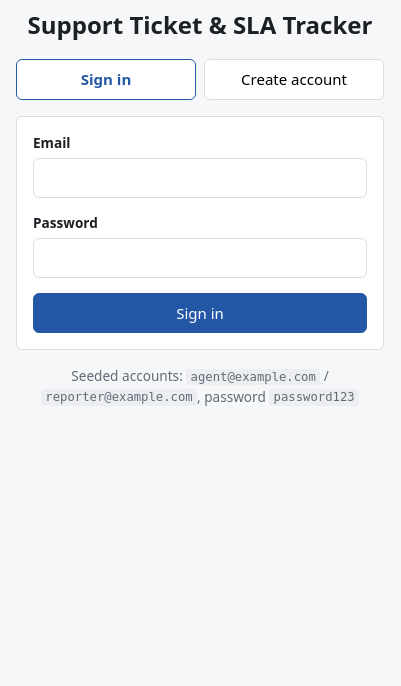
create account › hides it again if the role is switched back
Click the tab "Create account" at point(294, 79), box 204,59 -> 384,100
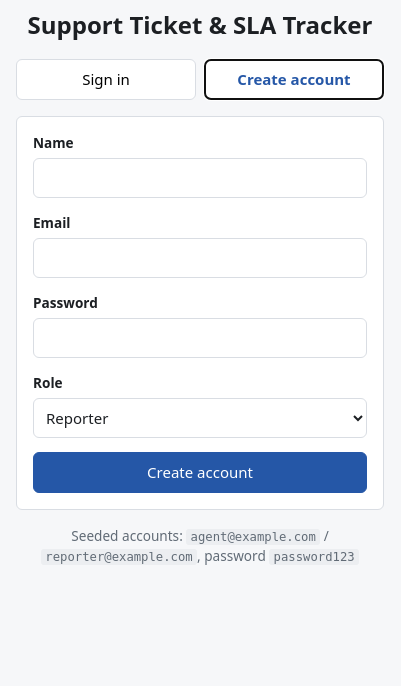
Select "Agent" in the dropdown labelled "Role" at point(200, 418), box 33,398 -> 367,438
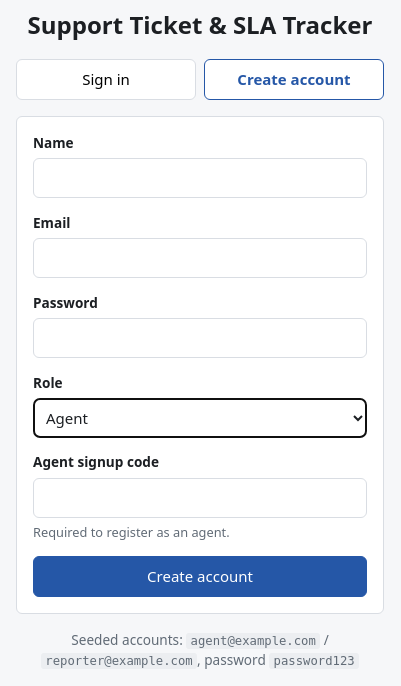
Now the field labelled "Agent signup code" is shown, box 33,478 -> 367,518
Select "Reporter" in the dropdown labelled "Role" at point(200, 418), box 33,398 -> 367,438
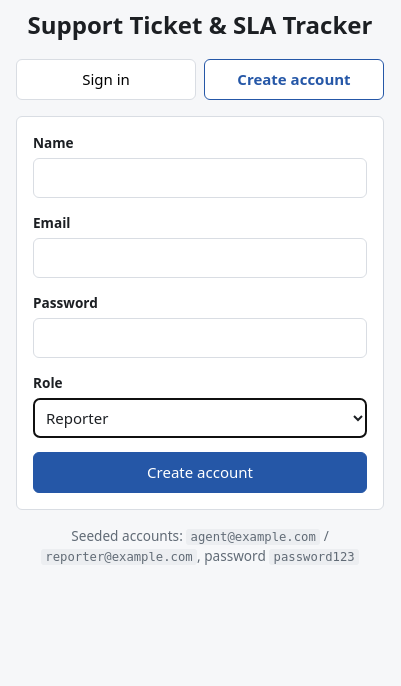
Now the text labelled "Agent signup code" is gone
